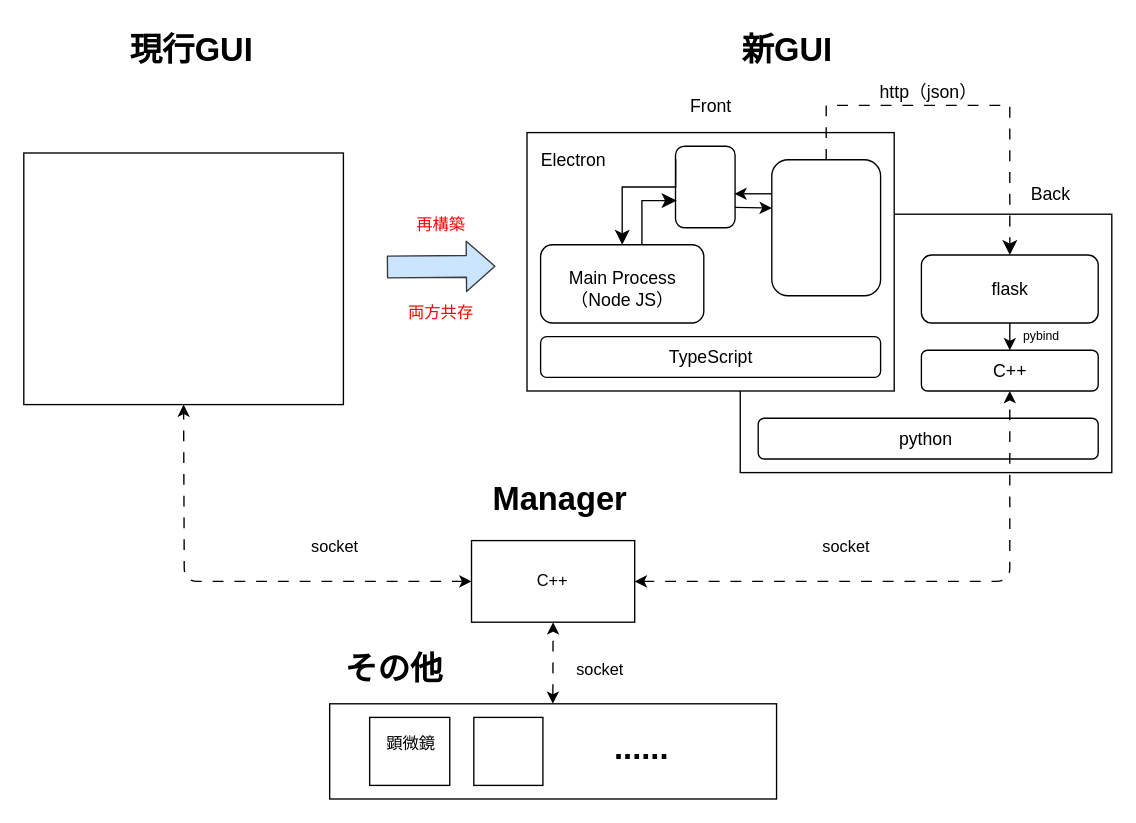
The diagram is 1136 pixels wide and 823 high, and some of its shapes have lost their labels. Each missing label, with the centre of its shape:
"C++ MFC（Native Code）" belongs at (x=182, y=278).
"IPC EVENT BUS" belongs at (x=704, y=186).
"Log" belongs at (x=507, y=750).
"React （Chromium）" belongs at (x=825, y=227).
